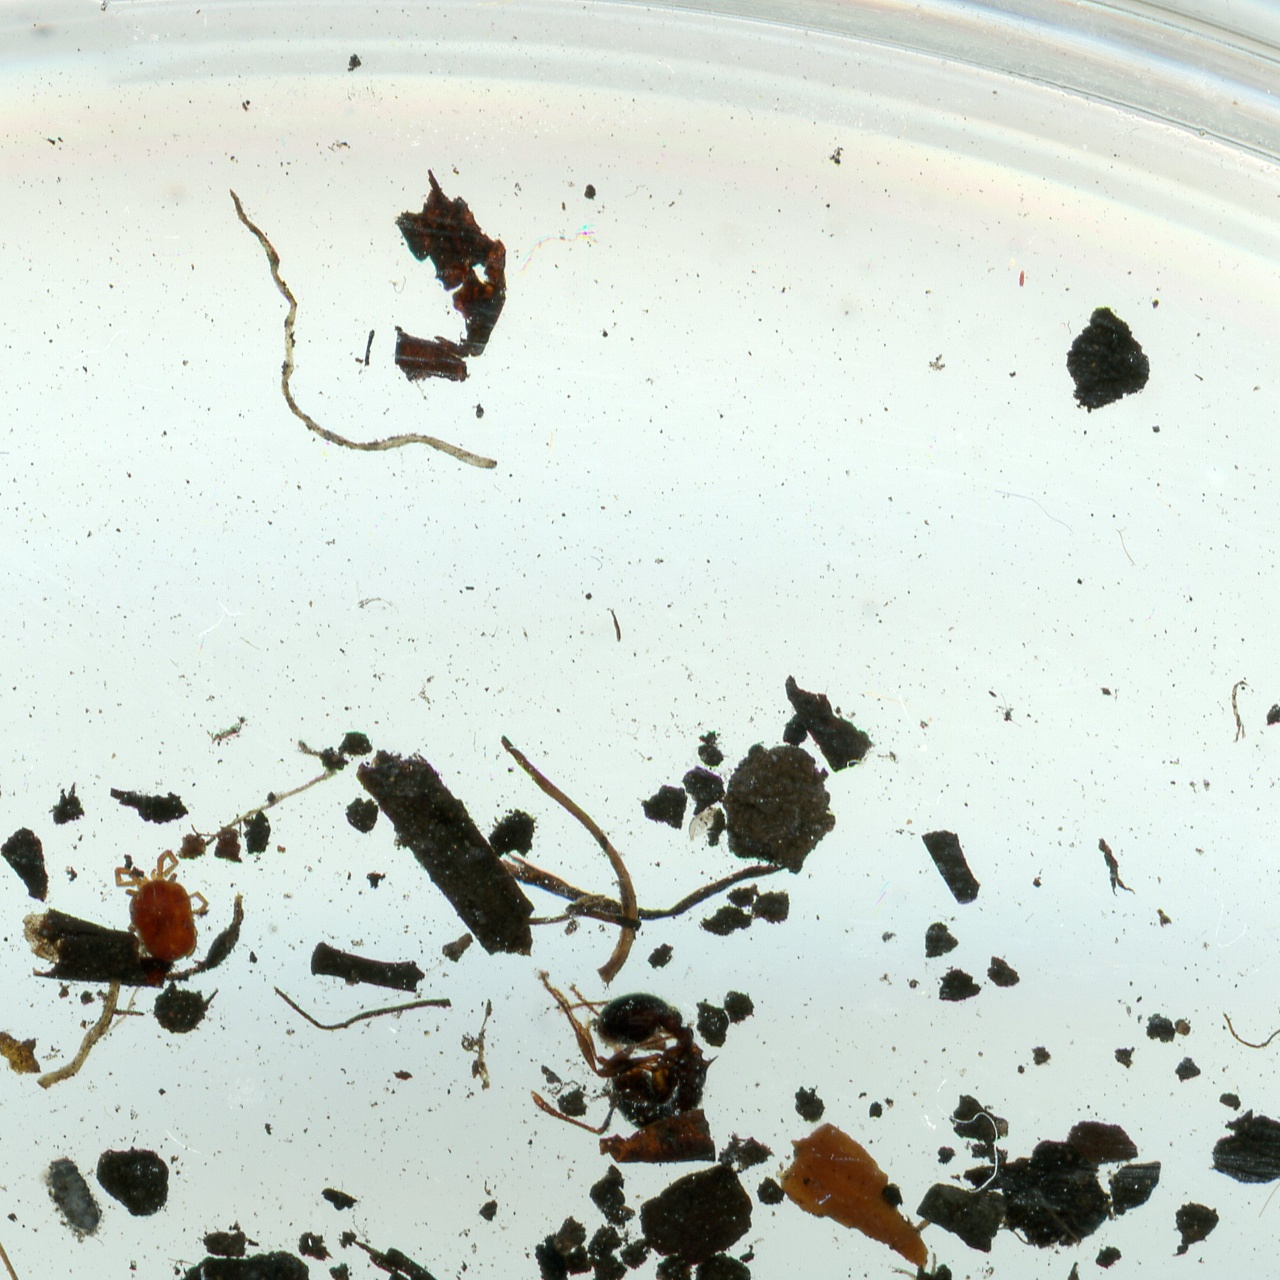arthropod: (525, 967, 724, 1141), (113, 847, 213, 973), (28, 1145, 119, 1256)
